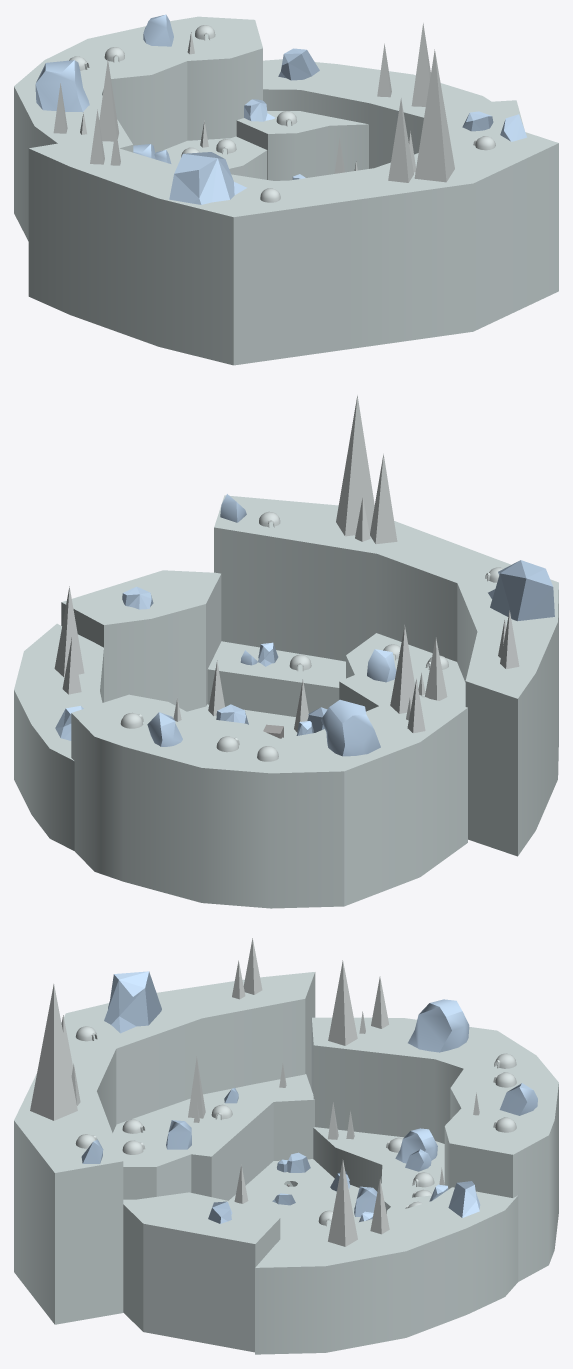
The model's file is MainEnvironmentFIXED.fbx.
3 views of the same model, one above another, from view 1: azimuth 30°, elevation 25°; view 2: azimuth 150°, elevation 25°; view 3: azimuth 270°, elevation 25° (orthographic). The views are drawn at different scales.
Parts seen in each view (by area): view 1: polySurface73, polySurface65, polySurface68, polySurface71, polySurface114, polySurface116, polySurface98, polySurface66, polySurface69, polySurface115, polySurface96, polySurface119 (+7 smaller); view 2: polySurface65, polySurface73, polySurface69, polySurface68, polySurface72, polySurface70, polySurface114, polySurface116, polySurface98, polySurface115, polySurface119, polySurface123 (+5 smaller); view 3: polySurface73, polySurface65, polySurface68, polySurface69, polySurface70, polySurface66, polySurface67, polySurface116, polySurface114, polySurface98, polySurface123, polySurface119 (+9 smaller).
Part boxes in pixels (x1,y1,x2,y2): polySurface73: [28, 124, 558, 365]; polySurface65: [14, 16, 262, 241]; polySurface68: [263, 59, 490, 168]; polySurface71: [236, 111, 368, 180]; polySurface114: [169, 152, 246, 204]; polySurface116: [414, 49, 454, 182]; polySurface98: [35, 60, 89, 112]; polySurface66: [163, 136, 267, 179]; polySurface69: [446, 100, 524, 141]; polySurface115: [388, 98, 413, 182]; polySurface96: [278, 48, 319, 80]; polySurface119: [99, 59, 118, 141]; polySurface65: [71, 694, 467, 908]; polySurface73: [214, 495, 558, 856]; polySurface69: [61, 570, 221, 711]; polySurface68: [14, 623, 103, 850]; polySurface72: [207, 641, 345, 716]; polySurface70: [339, 633, 465, 711]; polySurface114: [488, 560, 554, 621]; polySurface116: [336, 395, 374, 536]; polySurface98: [321, 699, 380, 756]; polySurface115: [370, 454, 397, 544]; polySurface119: [390, 625, 414, 713]; polySurface123: [54, 586, 84, 677]; polySurface73: [14, 972, 315, 1324]; polySurface65: [311, 1017, 558, 1281]; polySurface68: [255, 1187, 518, 1354]; polySurface69: [123, 1192, 280, 1352]; polySurface70: [113, 1074, 314, 1200]; polySurface66: [313, 1127, 444, 1213]; polySurface67: [229, 1159, 360, 1239]; polySurface116: [30, 984, 77, 1120]; polySurface114: [104, 971, 161, 1033]; polySurface98: [408, 999, 469, 1052]; polySurface123: [328, 1159, 357, 1246]; polySurface119: [328, 960, 357, 1045].
Size of the model in its own units: 22867 by 13082 by 22789.
